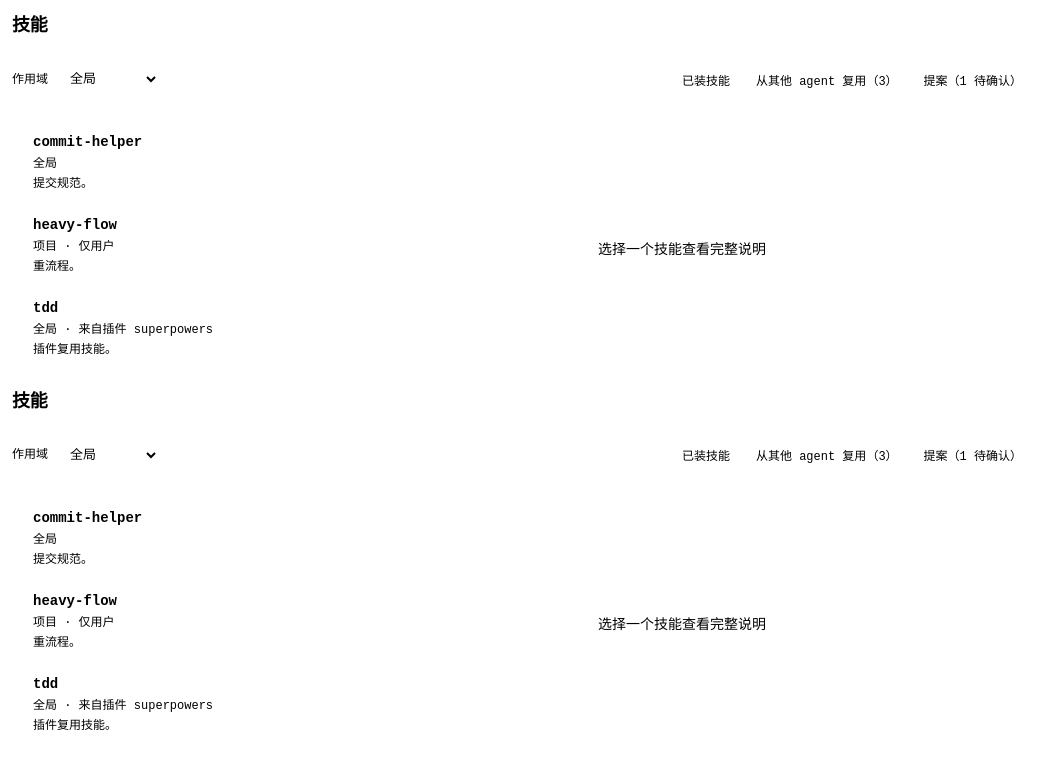
SkillsView › clicking an owned skill opens its read-only body
(page scrolled)
Click the 2nd button with test id "skill-commit-helper": (88, 518) [24,499,300,578]
(page scrolled)
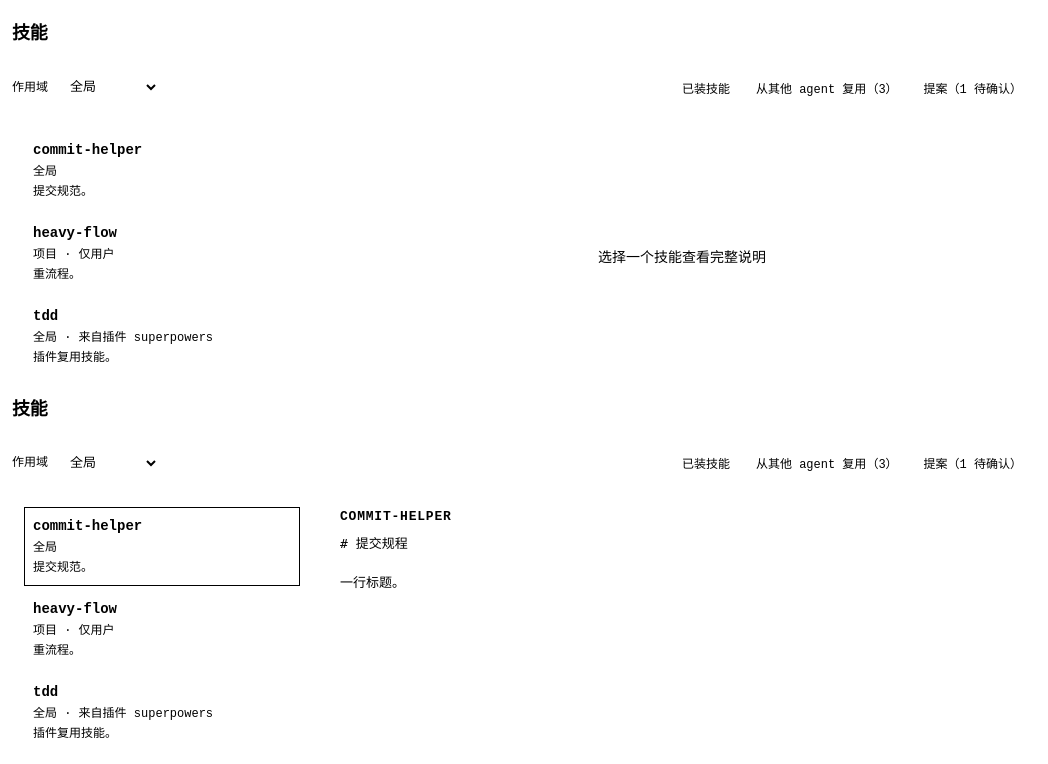
Check: the text "# 提交规程" is shown, box [340,536,408,590]
